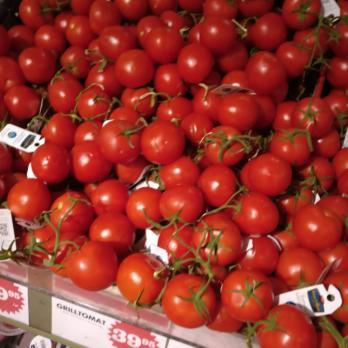Tomato: (0, 0, 348, 253), (64, 251, 348, 298), (159, 296, 348, 348)
